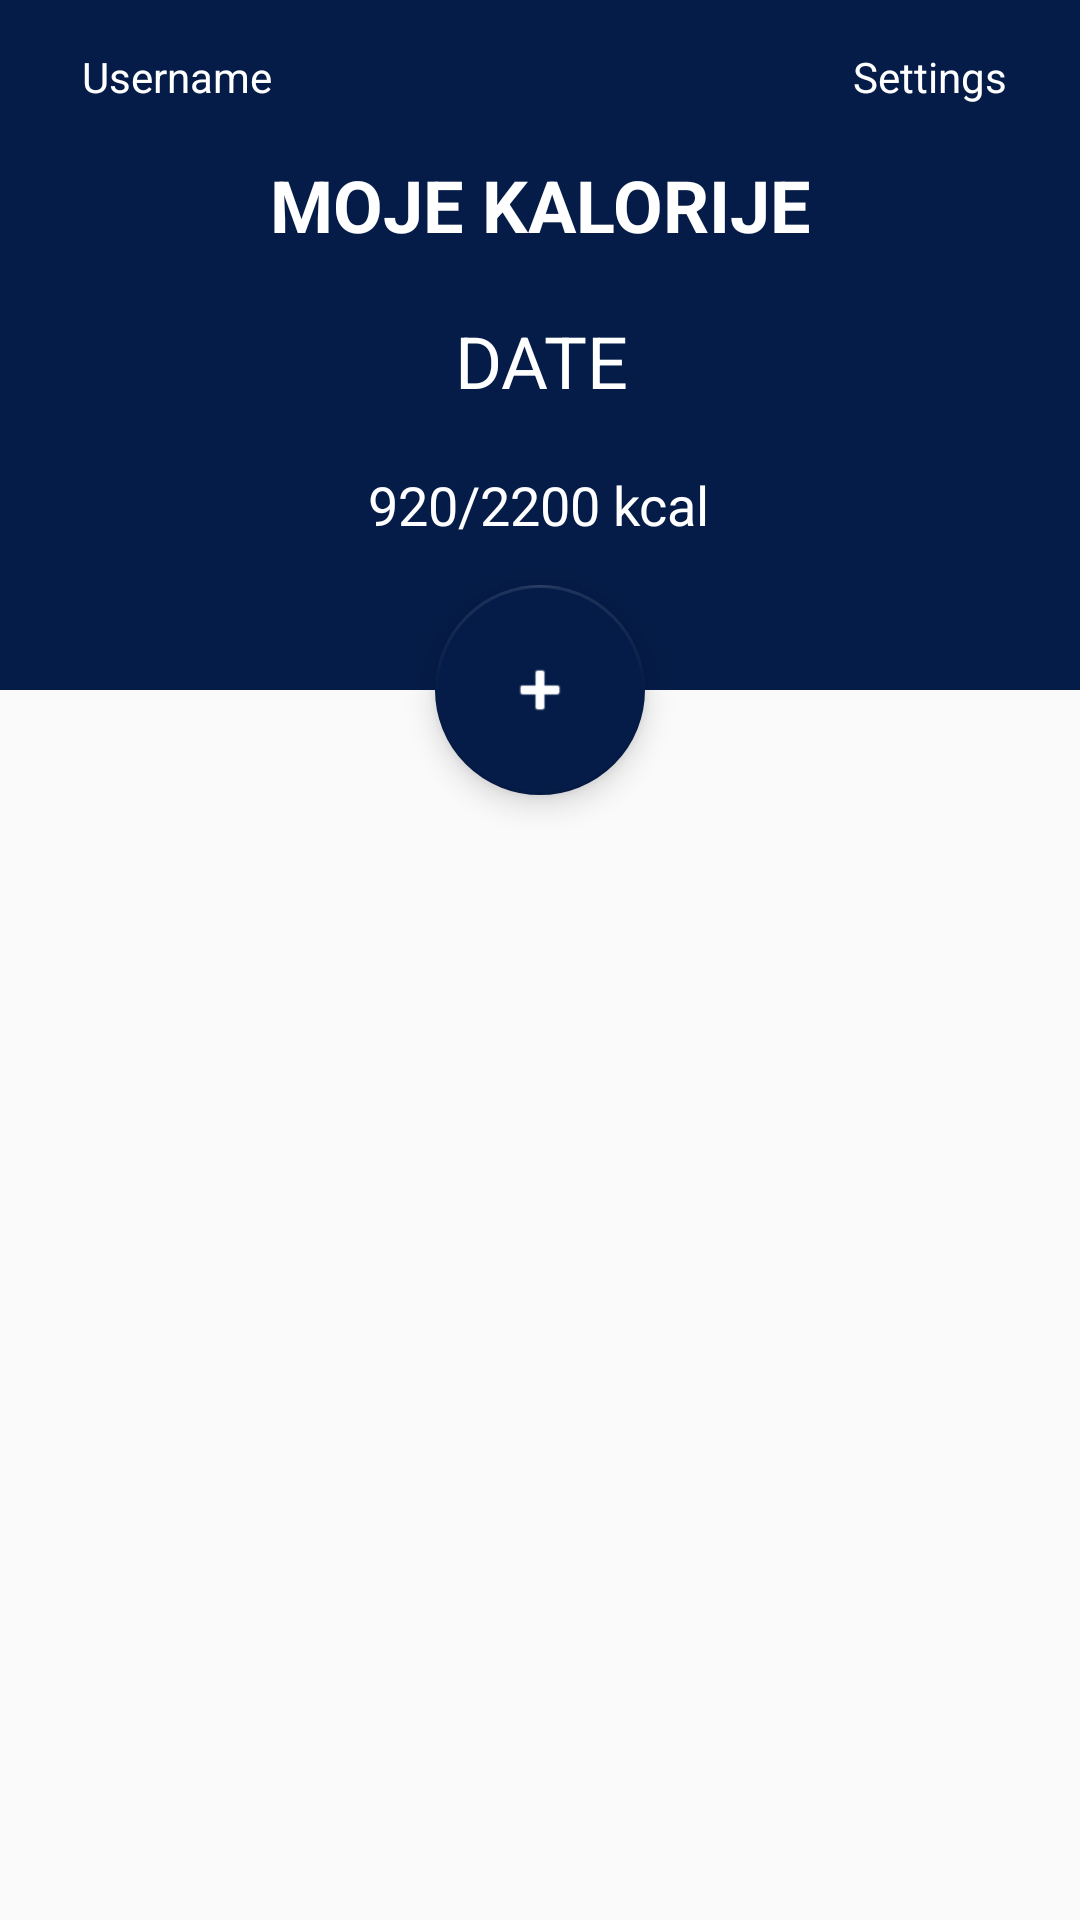

Where to tap for icons on this 1080*1920 app screen, as point (x, y):
add: point (540, 690)
